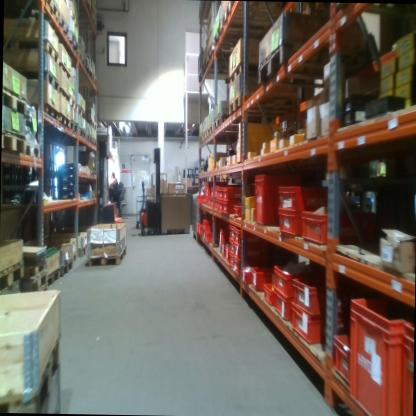pallet: (0, 331, 61, 412), (257, 40, 291, 91), (4, 37, 59, 65), (11, 0, 60, 23), (228, 88, 264, 117), (87, 244, 126, 268), (16, 72, 60, 92), (228, 60, 261, 85), (0, 258, 24, 289), (3, 85, 27, 115), (20, 258, 47, 282), (1, 133, 26, 157), (219, 0, 237, 31), (23, 272, 47, 295), (50, 15, 70, 41), (26, 104, 57, 120), (57, 257, 72, 280), (44, 269, 61, 287), (23, 141, 40, 159), (57, 61, 71, 82), (211, 25, 223, 48), (72, 50, 85, 70), (214, 117, 228, 133), (69, 10, 79, 31), (80, 63, 91, 82), (205, 46, 215, 66), (68, 38, 79, 56), (55, 114, 69, 128), (60, 87, 70, 106), (68, 121, 78, 137), (73, 128, 86, 140), (206, 123, 214, 141), (67, 251, 77, 263), (70, 98, 78, 111), (87, 120, 97, 130), (77, 105, 84, 119), (85, 134, 91, 146), (92, 71, 96, 86), (197, 137, 202, 148), (204, 131, 207, 146), (92, 139, 97, 145)
pallet_truck: (96, 138, 126, 229), (139, 141, 162, 237)
small_load_carrier: (347, 292, 403, 416), (254, 173, 301, 226), (289, 275, 347, 314), (288, 301, 339, 345), (300, 210, 357, 242), (276, 184, 326, 216), (331, 324, 350, 391), (401, 318, 413, 416), (273, 259, 293, 297), (273, 289, 293, 326), (276, 213, 302, 239), (204, 182, 227, 209), (233, 242, 267, 260), (251, 266, 272, 292), (234, 229, 267, 245), (221, 185, 254, 201), (262, 281, 276, 310), (201, 219, 225, 232), (223, 201, 238, 216), (233, 258, 246, 275), (233, 204, 244, 223), (205, 232, 222, 244), (228, 251, 238, 270), (240, 263, 249, 281), (224, 244, 232, 263), (227, 235, 235, 253), (218, 228, 226, 244), (228, 223, 235, 238), (218, 242, 225, 256), (219, 202, 224, 219), (219, 186, 223, 201), (197, 222, 202, 233), (213, 187, 217, 199), (214, 199, 218, 211), (211, 198, 215, 210), (217, 187, 220, 200), (211, 187, 214, 199), (216, 201, 219, 212), (208, 199, 212, 207)
stillage: (189, 189, 197, 241)
